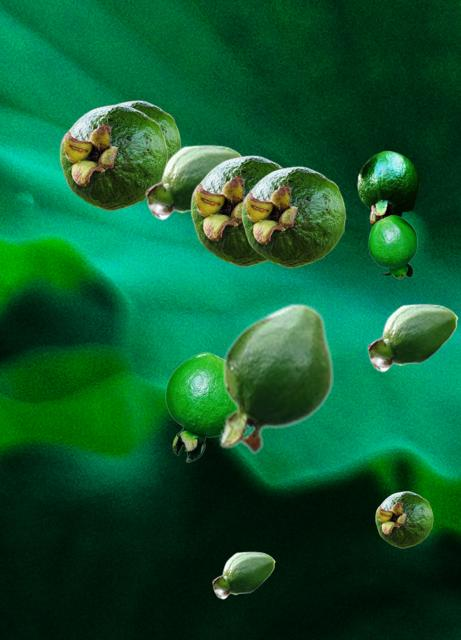guava: (219, 302, 332, 454), (59, 104, 167, 210), (241, 166, 345, 267), (190, 155, 282, 266), (165, 352, 235, 461), (145, 144, 242, 219), (367, 303, 457, 371), (357, 150, 419, 225), (116, 100, 180, 158), (375, 491, 432, 547), (368, 215, 416, 278), (212, 551, 274, 598)
